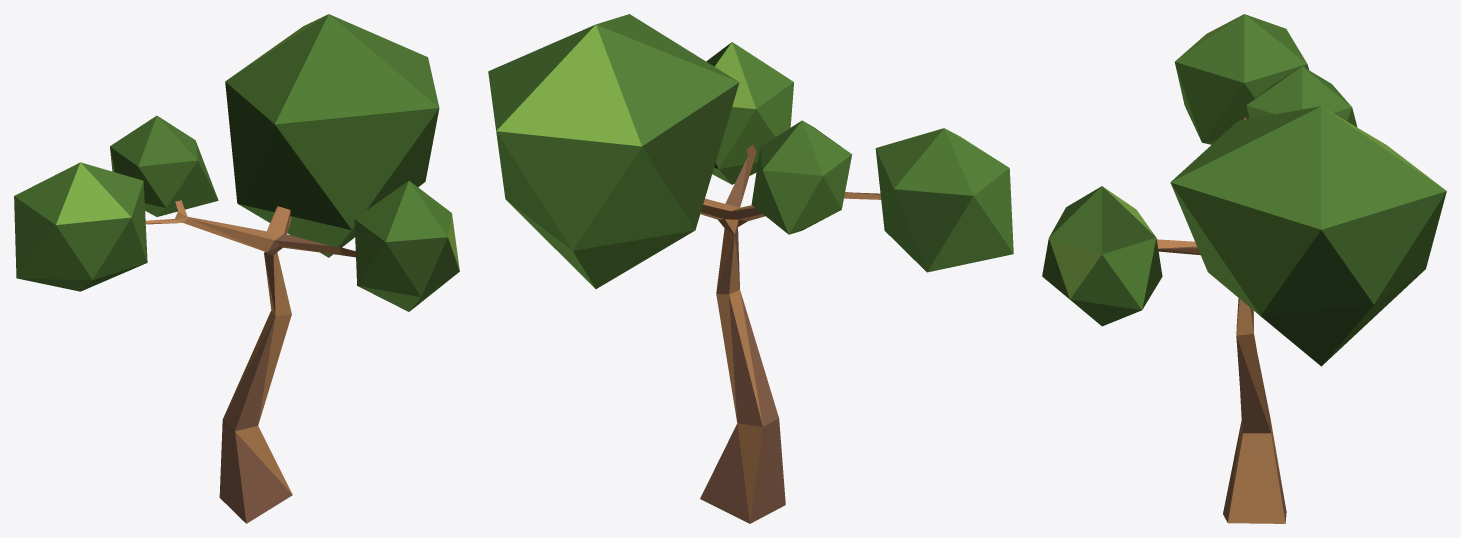
File: anotherdeformedfirsttree.fbx
3 renders of one model, left to right at view 1: azimuth 30°, elevation 25°; view 2: azimuth 150°, elevation 25°; view 3: azimuth 270°, elevation 25°, orthographic. The views are drawn at different scales.
Visible parts, largest first — view 1: Icosphere.001, Icosphere, Cube, Icosphere.002, Icosphere.003; view 2: Icosphere.001, Icosphere, Cube, Icosphere.003, Icosphere.002; view 3: Icosphere.001, Icosphere.002, Icosphere, Cube, Icosphere.003.
Part boxes in pixels (x1,y1,x2,y2): Icosphere.001: (225,14,439,257); Icosphere: (14,162,147,291); Cube: (145,200,355,523); Icosphere.002: (354,181,459,311); Icosphere.003: (110,115,218,216); Icosphere.001: (488,14,739,288); Icosphere: (875,128,1013,272); Cube: (700,144,881,523); Icosphere.003: (751,120,852,234); Icosphere.002: (706,42,793,184); Icosphere.001: (1170,106,1446,366); Icosphere.002: (1042,186,1162,326); Icosphere: (1174,14,1308,144); Cube: (1157,117,1286,523); Icosphere.003: (1246,66,1357,127).
Size of the model in its own units: 1734 by 1646 by 1272.
